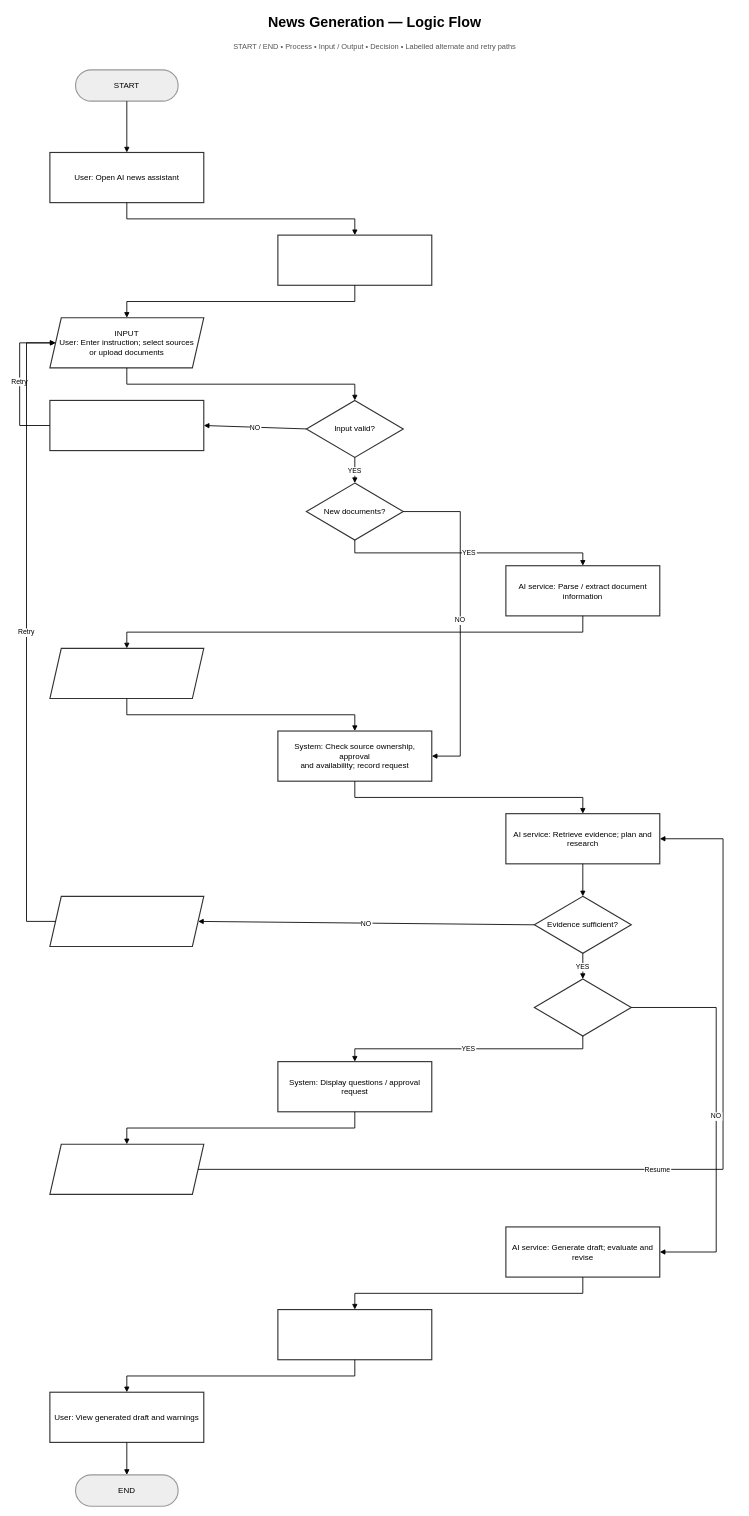
The diagram is 749 pixels wide and 1516 high, and some of its shapes have lost their labels. The shapes that lost their labels are listed below. From the top down, each one's box as (x1, y1, x2, y2) in pixels, then its label:
(277, 234, 432, 286): System: Display conversation and source library
(49, 400, 204, 451): Display issue / correction User: Correct invalid input
(49, 648, 204, 699): INPUT User: Review extracted information and approve suitable evidence
(49, 895, 204, 947): INPUT User: Add evidence or revise request
(534, 978, 632, 1036): Clarification needed?
(49, 1143, 204, 1195): INPUT User: Submit answers or source decisions
(277, 1309, 432, 1360): System: Save draft, sources, version and quality evaluation
